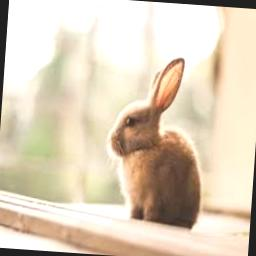rabbit: (106, 57, 200, 228)
